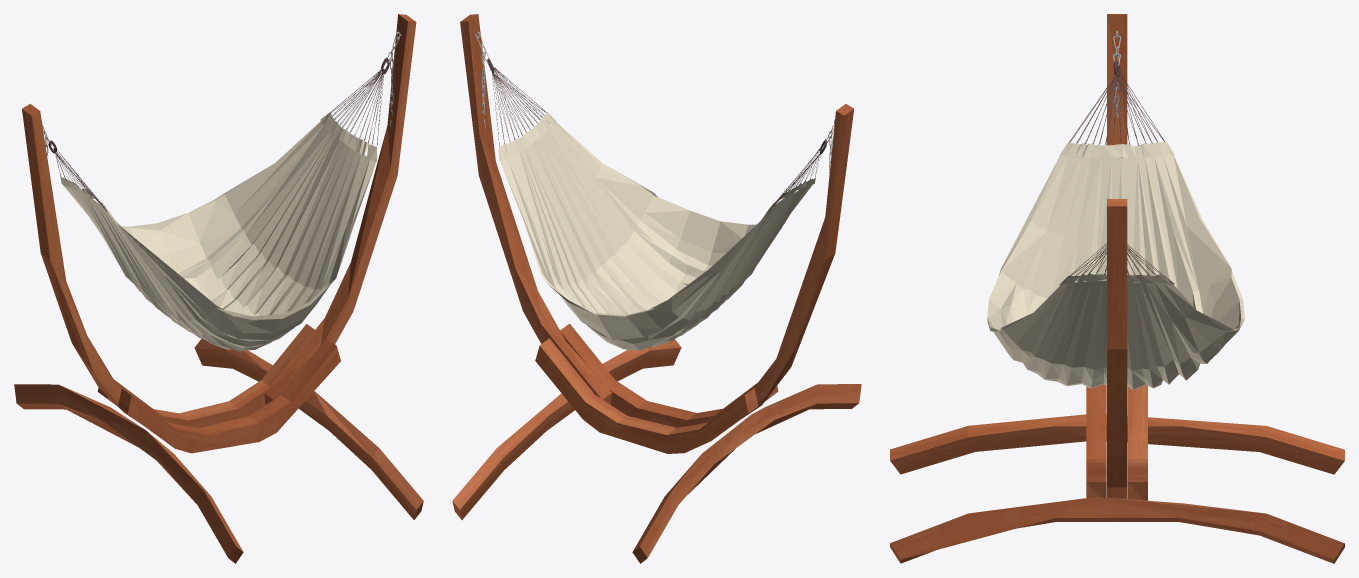
File: sh-scopia-hammock.glb
3 views of the same model, side by side, from view 1: azimuth 30°, elevation 25°; view 2: azimuth 150°, elevation 25°; view 3: azimuth 270°, elevation 25° (orthographic). The views are drawn at different scales.
Visible parts, largest first — view 1: Plane, wood_Circle, chain3.017_Circle.046; view 2: Plane, wood_Circle, chain3.017_Circle.046; view 3: Plane, wood_Circle, chain3.017_Circle.046.
Part boxes in pixels (box(x1,y1,x2,y2)): Plane: box(60, 112, 376, 351); wood_Circle: box(14, 14, 423, 563); chain3.017_Circle.046: box(48, 57, 389, 213); Plane: box(498, 112, 815, 350); wood_Circle: box(452, 14, 861, 563); chain3.017_Circle.046: box(487, 58, 826, 213); Plane: box(987, 142, 1244, 390); wood_Circle: box(890, 14, 1344, 563); chain3.017_Circle.046: box(1068, 61, 1165, 277).
Size of the model in its own units: 1 by 1 by 1.
Materials: 5 (2 with a texture image).
